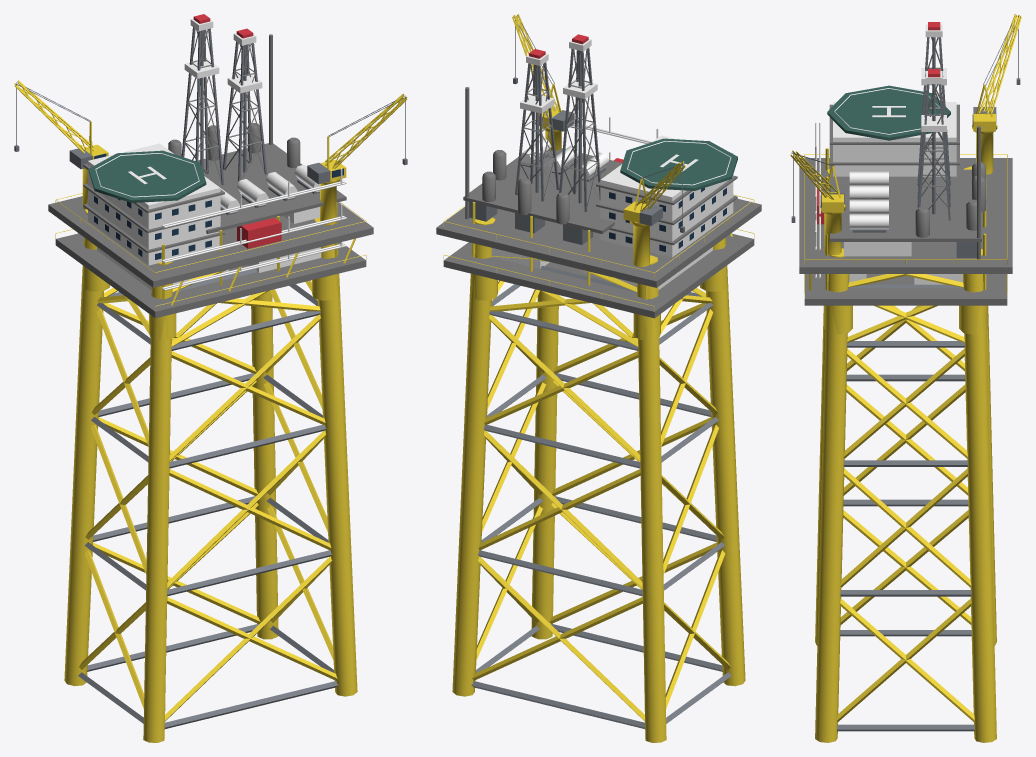
Rendered from top-prebuilt.fbx.
The picture shows the model from 3 angles, left to right: view 1: azimuth 30°, elevation 25°; view 2: azimuth 150°, elevation 25°; view 3: azimuth 270°, elevation 25°; orthographic projection.
Parts seen in each view (by area): view 1: a1072/0/top-prebuilt; view 2: a1072/0/top-prebuilt; view 3: a1072/0/top-prebuilt.
Boxes of the visible parts, bbox=[...] form: a1072/0/top-prebuilt: bbox=[14, 14, 407, 742]; a1072/0/top-prebuilt: bbox=[436, 14, 761, 742]; a1072/0/top-prebuilt: bbox=[790, 14, 1021, 742].
Size of the model in its own units: 59.09 by 131 by 41.26.
